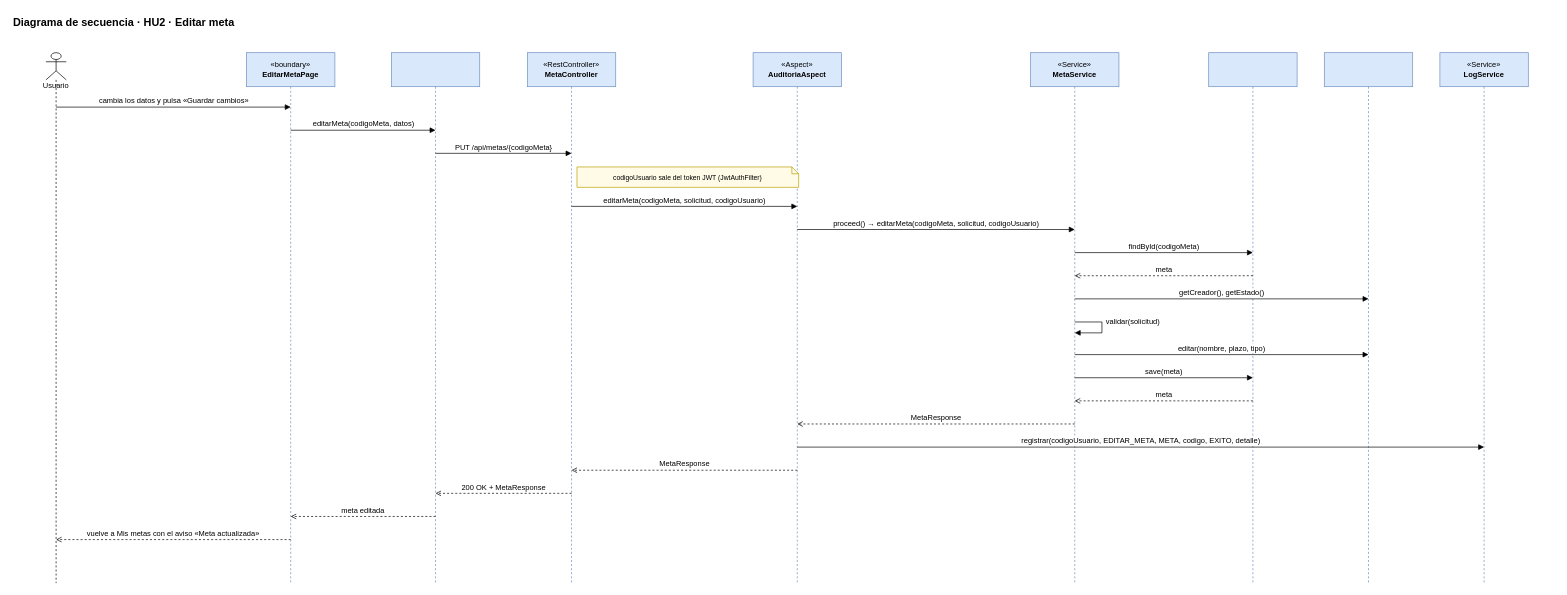
Some shapes in this 1567 by 595 pixel diagram are drawn without their labels. Here are the shapes that lost their labels. From the top down, the box of each, then its label:
(391, 52, 480, 583): «module» metaService.js
(1208, 52, 1297, 583): «Repository» MetaRepository
(1324, 52, 1413, 583): «Entity» meta : Meta
